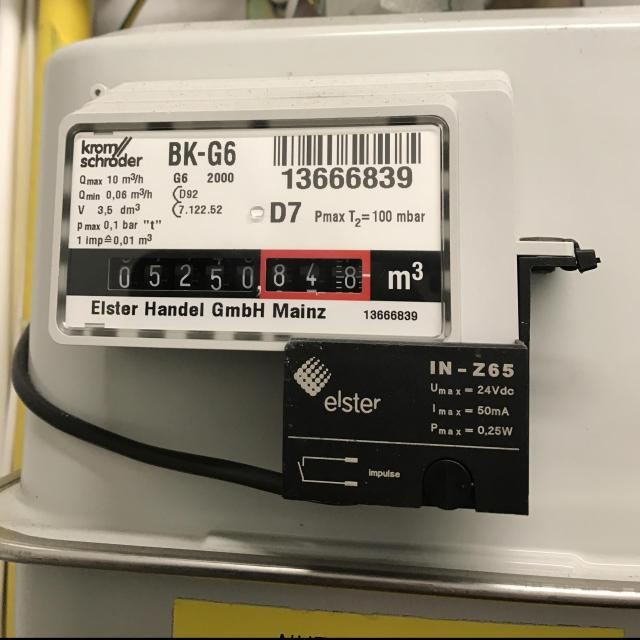gaz_meter: (63, 115, 449, 342)
indication: (67, 248, 370, 299)
